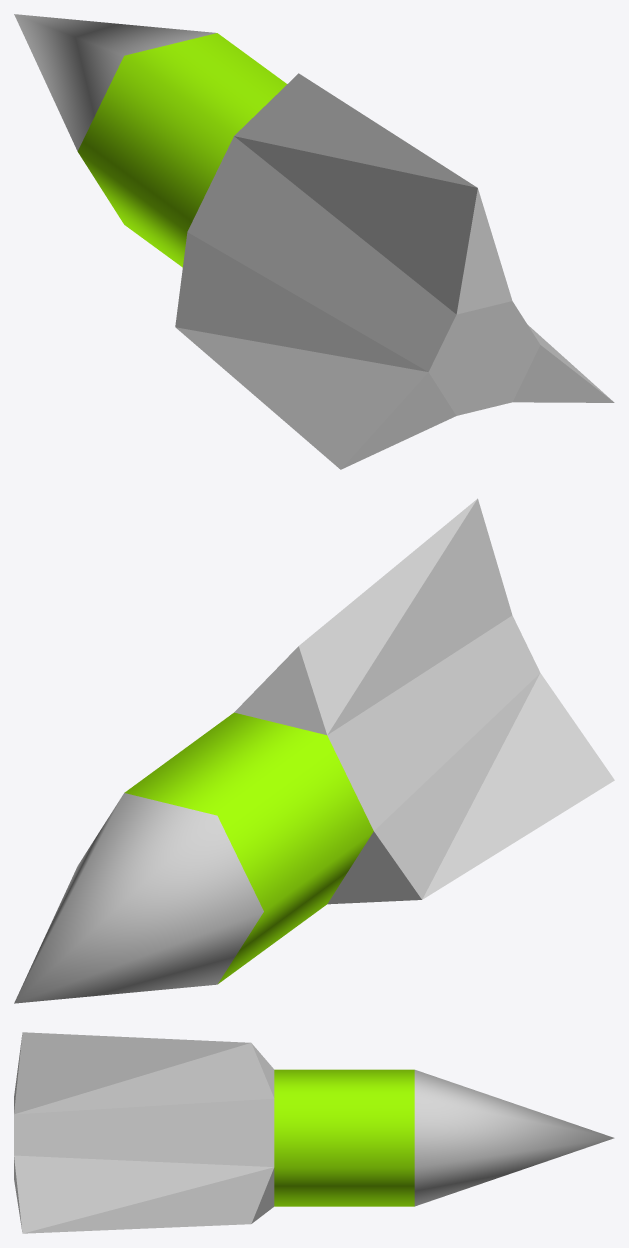
File: Rocket.FBX
3 views of the same model, one above another, from view 1: azimuth 30°, elevation 25°; view 2: azimuth 150°, elevation 25°; view 3: azimuth 270°, elevation 25° (orthographic). The views are drawn at different scales.
Parts seen in each view (by area): view 1: Cylinder01, Object01; view 2: Cylinder01, Object01; view 3: Cylinder01, Object01.
Boxes of the visible parts, box(x1,y1,x2,y2) form: Cylinder01: box(14, 14, 614, 469); Object01: box(77, 33, 286, 267); Cylinder01: box(14, 498, 614, 1003); Object01: box(124, 712, 373, 983); Cylinder01: box(14, 1032, 614, 1233); Object01: box(274, 1069, 414, 1206).
Bounding box in the file's own units: 33.65 × 29.34 × 100.
